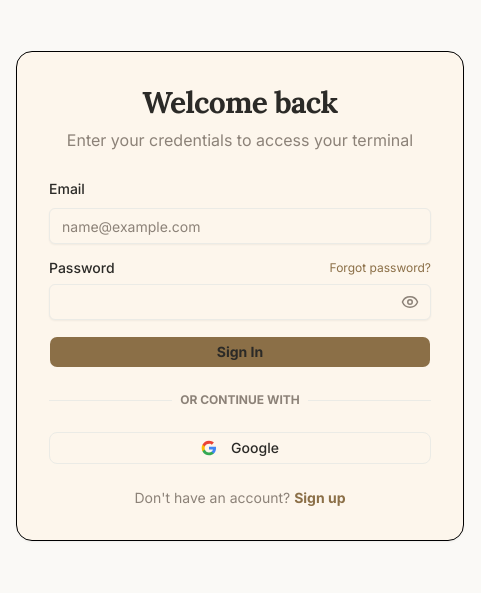
Test: LoginPage › test_login_error_shows_message: Mock error → assert error message rendered
Type "test@example.com" into the field labelled "Email" at (240, 226), box x1=49 y1=208 x2=431 y2=244
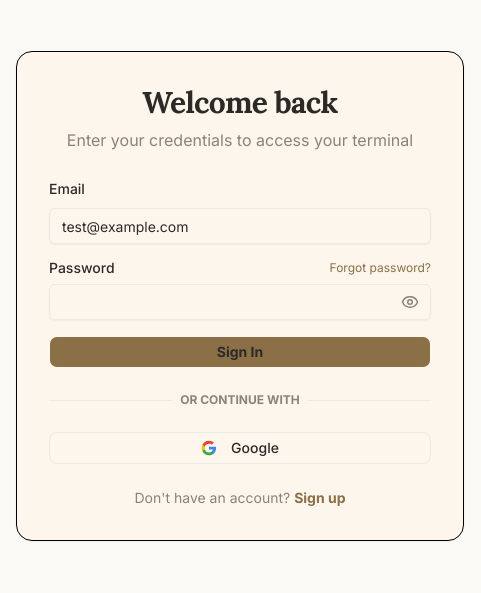
Type "wrongpassword" into the password field labelled "Password" at (240, 302), box x1=49 y1=284 x2=431 y2=320
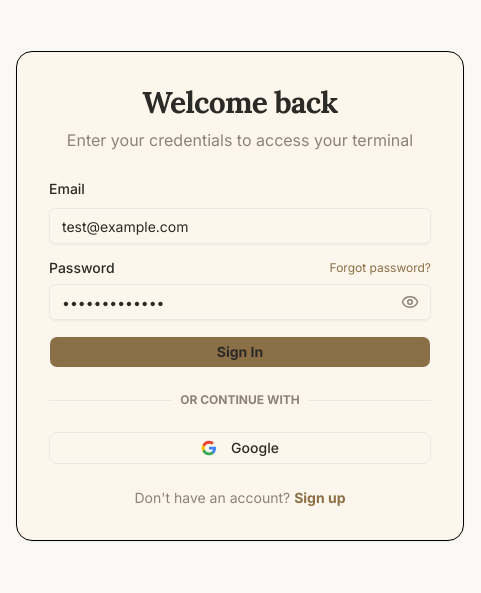
Click the button "Sign In" at (240, 352), box x1=49 y1=336 x2=431 y2=368
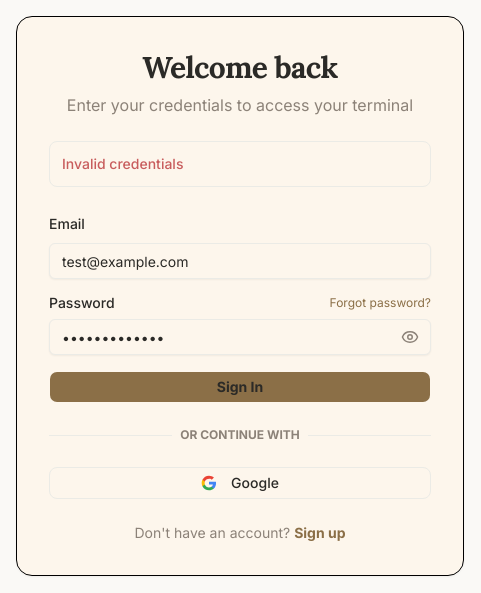
Check: the text "Invalid credentials" is shown, box x1=49 y1=141 x2=431 y2=187
